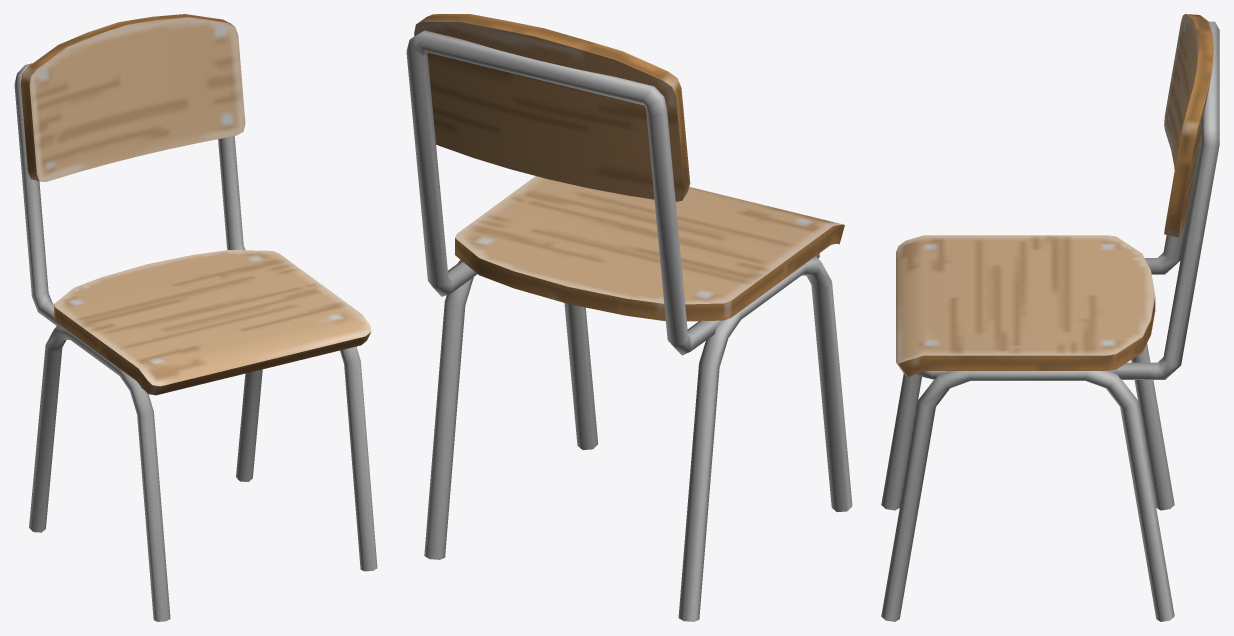
Rendered from Chair_002.FBX.
3 renders of one model, left to right at view 1: azimuth 30°, elevation 25°; view 2: azimuth 150°, elevation 25°; view 3: azimuth 270°, elevation 25°, orthographic. The views are drawn at different scales.
Parts seen in each view (by area): view 1: Chair_002; view 2: Chair_002; view 3: Chair_002.
Part boxes in pixels (x1,y1,x2,y2): Chair_002: (14,14,377,621); Chair_002: (406,14,852,621); Chair_002: (881,14,1219,621).
Size of the model in its own units: 45 by 53.52 by 90.09.
